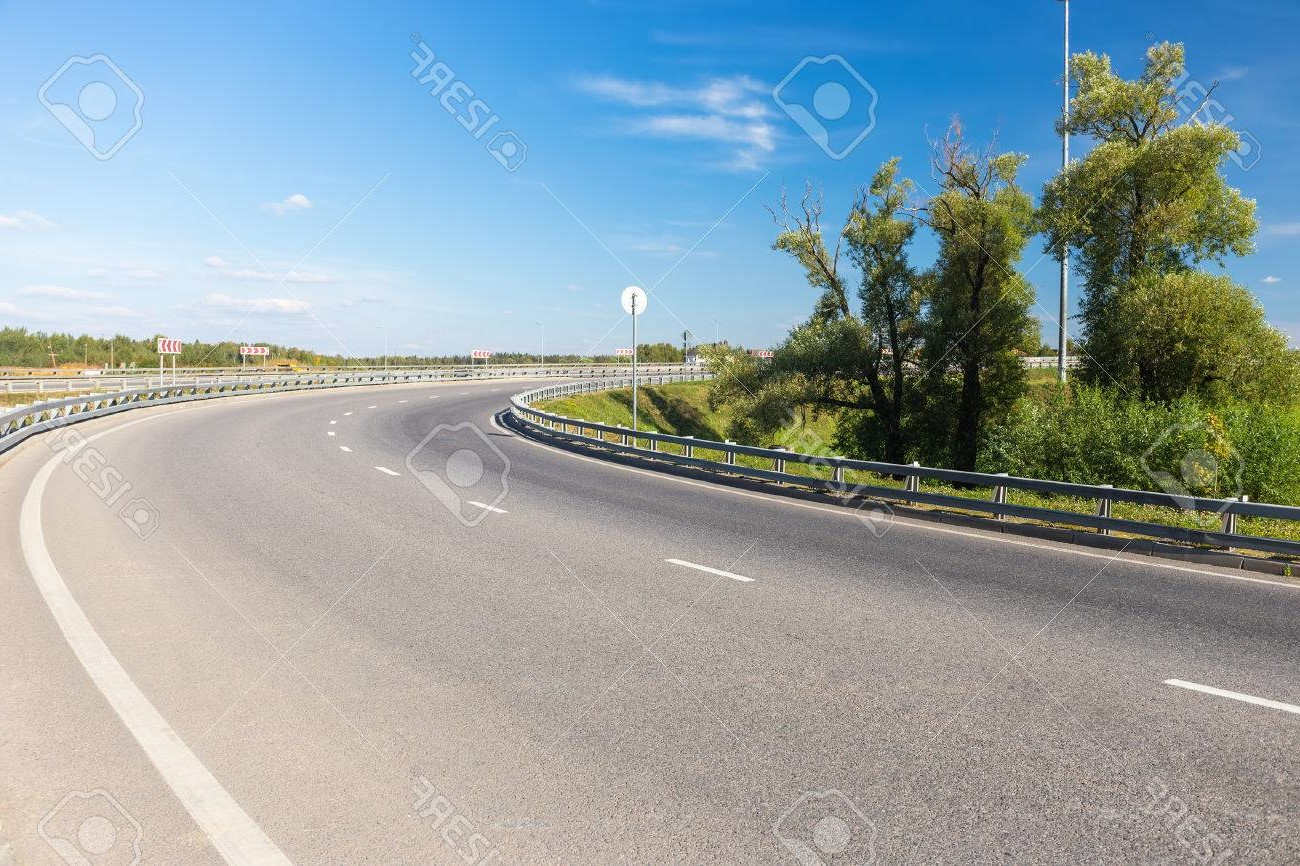rightTrun: (84, 336, 583, 684)
